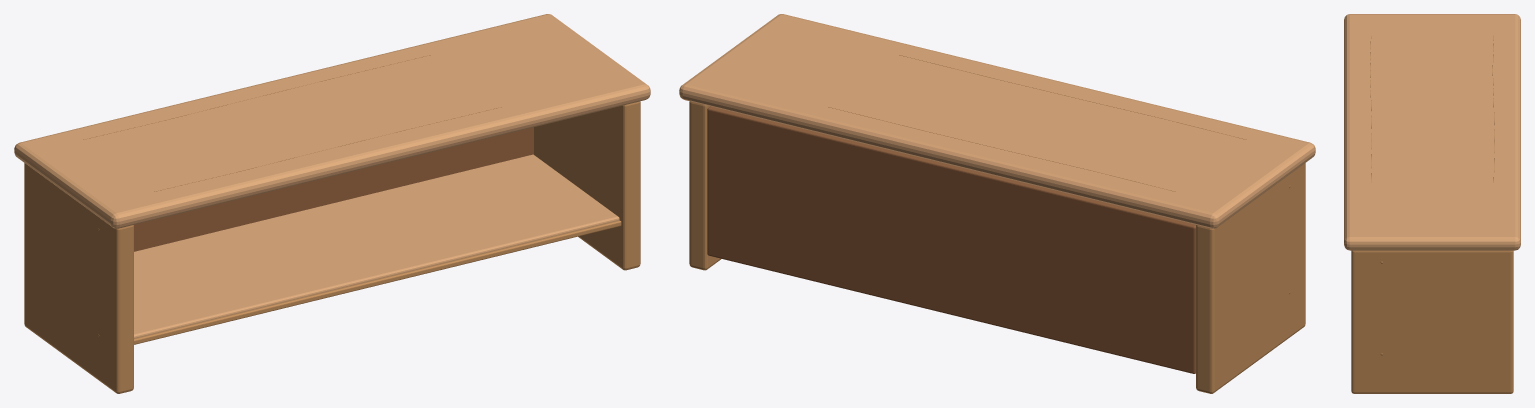
File: workbench.glb
3 views of the same model, side by side, from view 1: azimuth 30°, elevation 25°; view 2: azimuth 150°, elevation 25°; view 3: azimuth 270°, elevation 25° (orthographic). The views are drawn at different scales.
Parts seen in each view (by area): view 1: Rounded_thick_worktop, Empty_storage_shelf, Side_support, Closed_rear_panel, Side_support.001, Shelf_front_edge; view 2: Closed_rear_panel, Rounded_thick_worktop, Side_support, Side_support.001; view 3: Rounded_thick_worktop, Side_support.001.
Part boxes in pixels (x1,y1,x2,y2): Rounded_thick_worktop: [14, 14, 650, 228]; Empty_storage_shelf: [134, 154, 619, 338]; Side_support: [24, 163, 133, 393]; Closed_rear_panel: [134, 127, 533, 251]; Side_support.001: [534, 101, 640, 270]; Shelf_front_edge: [134, 220, 621, 344]; Closed_rear_panel: [707, 106, 1195, 373]; Rounded_thick_worktop: [679, 14, 1315, 228]; Side_support: [1196, 163, 1305, 393]; Side_support.001: [689, 101, 721, 270]; Rounded_thick_worktop: [1344, 14, 1520, 250]; Side_support.001: [1351, 250, 1513, 393].
Bounding box in the file's own units: 2.98 × 0.9712 × 0.98.
